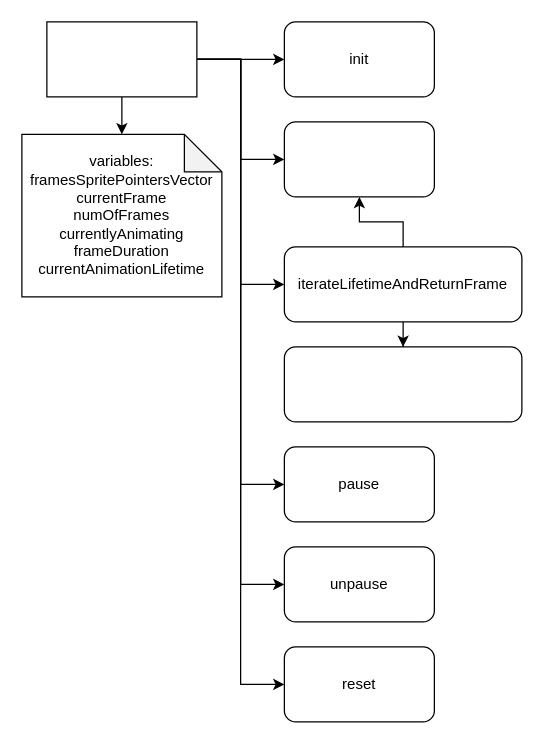
Some shapes in this 544 by 744 pixel diagram are drawn without their labels. Here are the shapes that lost their labels. From the top down, the box of each, then its label:
(46, 21, 197, 97): animation
(283, 121, 434, 197): returnCurrentFrame
(283, 346, 522, 422): setCurrentFrameFromLifetime
